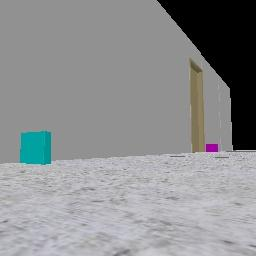mov: (205, 144, 218, 151)
turcoaz: (20, 130, 51, 163)
